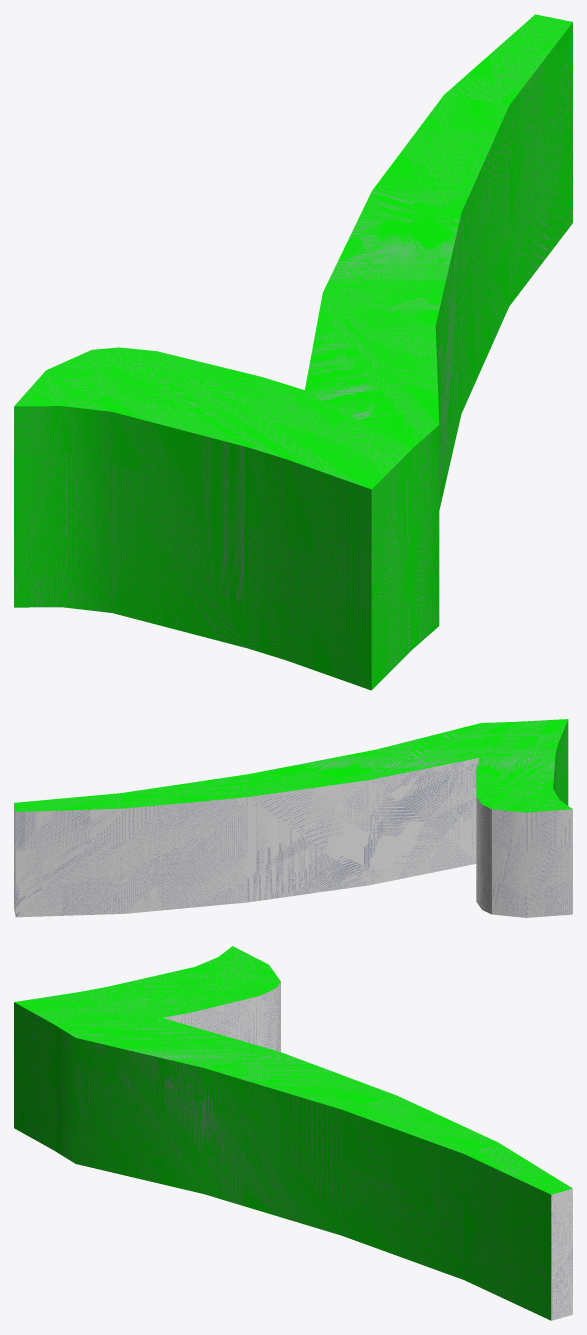
3 views of the same model, one above another, from view 1: azimuth 30°, elevation 25°; view 2: azimuth 150°, elevation 25°; view 3: azimuth 270°, elevation 25° (orthographic). The views are drawn at different scales.
Parts seen in each view (by area): view 1: SketchUp; view 2: SketchUp (×2); view 3: SketchUp (×2).
Boxes of the visible parts, <box> form: SketchUp: <box>14,14,572,690</box>; SketchUp (×2): <box>14,719,572,917</box>; SketchUp (×2): <box>14,946,572,1320</box>.
Bounding box in the file's own units: 71.92 × 68.3 × 17.
